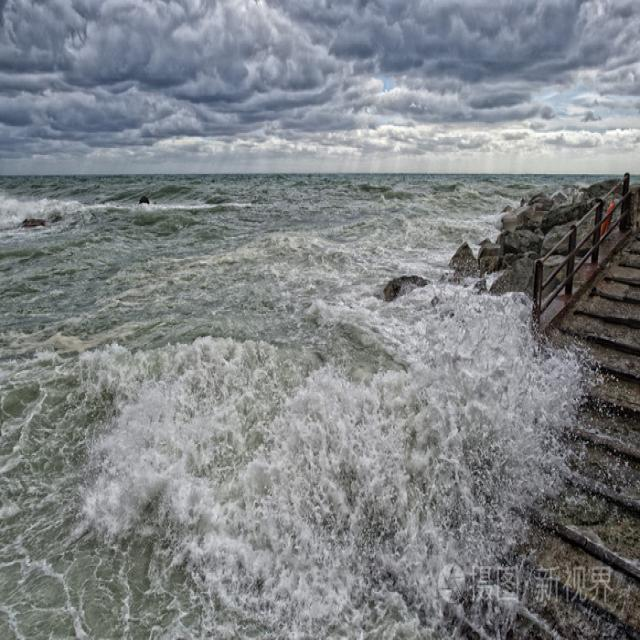reef: (378, 180, 548, 281)
